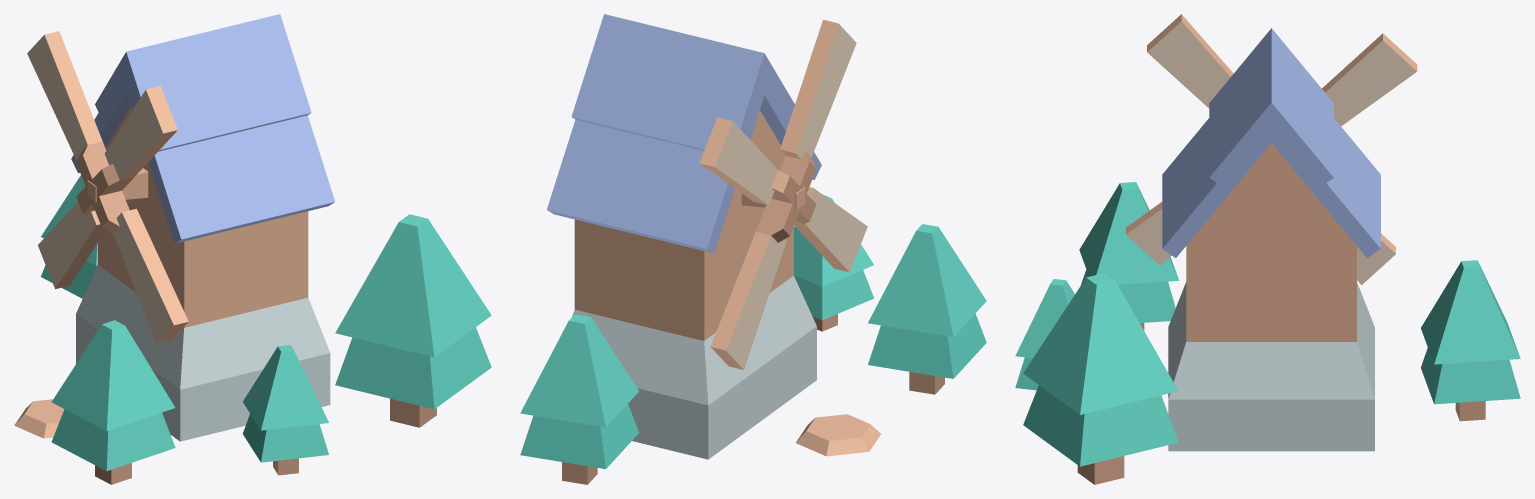
The model's file is Milllvl1.fbx.
The picture shows the model from 3 angles, left to right: view 1: azimuth 30°, elevation 25°; view 2: azimuth 150°, elevation 25°; view 3: azimuth 270°, elevation 25°; orthographic projection. The views are drawn at different scales.
Parts seen in each view (by area): view 1: building.001, tree.004, mill.001, tree.005, tree.007, tree.006, path.001; view 2: building.001, mill.001, tree.006, tree.005, tree.007, path.001; view 3: building.001, tree.004, tree.006, mill.001, tree.005, tree.007.
Part boxes in pixels (x1=…): building.001: x1=71, y1=14, x2=334, y2=441; tree.004: x1=335, y1=214, x2=491, y2=427; mill.001: x1=27, y1=31, x2=188, y2=343; tree.005: x1=51, y1=320, x2=175, y2=484; tree.007: x1=242, y1=345, x2=328, y2=475; tree.006: x1=41, y1=175, x2=97, y2=298; path.001: x1=14, y1=399, x2=64, y2=438; building.001: x1=547, y1=14, x2=821, y2=459; mill.001: x1=699, y1=19, x2=867, y2=369; tree.006: x1=520, y1=314, x2=638, y2=484; tree.005: x1=868, y1=224, x2=986, y2=394; tree.007: x1=794, y1=195, x2=874, y2=331; path.001: x1=796, y1=414, x2=880, y2=456; building.001: x1=1162, y1=28, x2=1380, y2=451; tree.004: x1=1023, y1=273, x2=1178, y2=484; tree.006: x1=1421, y1=260, x2=1520, y2=421; mill.001: x1=1126, y1=14, x2=1417, y2=285; tree.005: x1=1079, y1=182, x2=1179, y2=330; tree.007: x1=1015, y1=279, x2=1074, y2=390.
Bounding box in the file's own units: 79.95 × 68.11 × 88.83.
